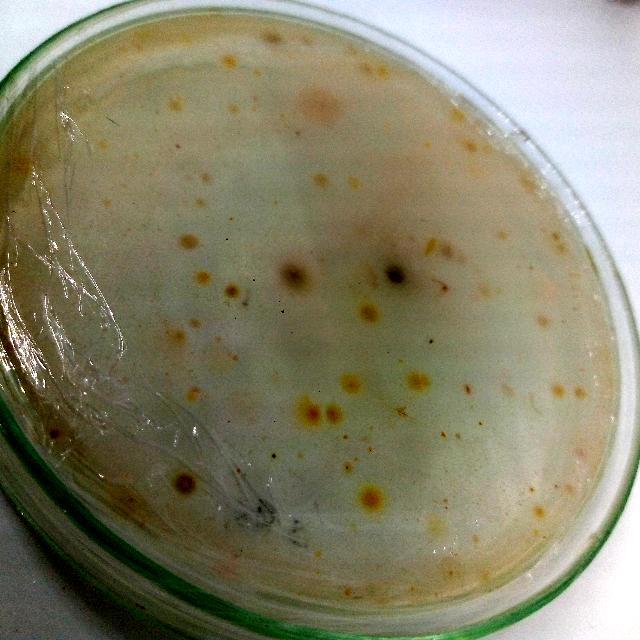colony: (292, 79, 346, 121), (429, 556, 476, 600), (275, 256, 313, 296), (508, 162, 548, 198), (170, 468, 202, 502), (421, 512, 453, 540), (299, 399, 327, 429), (381, 260, 411, 288), (358, 300, 386, 328), (320, 398, 346, 428), (407, 368, 433, 394), (359, 486, 383, 514), (174, 228, 202, 252), (444, 103, 471, 127), (544, 380, 572, 402), (356, 57, 380, 81), (436, 240, 458, 266), (261, 26, 287, 48), (340, 372, 364, 394), (194, 167, 218, 189), (194, 266, 216, 288), (570, 441, 592, 462), (342, 174, 363, 196), (183, 382, 205, 402), (222, 280, 244, 300), (558, 480, 580, 500), (532, 314, 554, 334), (308, 169, 330, 189), (220, 51, 240, 73), (477, 564, 499, 584), (166, 96, 188, 115), (44, 425, 64, 445), (222, 98, 242, 118), (373, 60, 393, 80), (393, 403, 415, 421), (570, 381, 592, 399), (552, 240, 574, 258), (188, 192, 210, 210), (461, 138, 482, 156), (123, 490, 143, 508), (187, 313, 205, 333), (529, 502, 549, 520), (424, 234, 441, 253), (168, 326, 188, 342), (460, 379, 476, 396), (436, 280, 452, 296), (546, 228, 562, 244), (340, 586, 358, 600), (472, 416, 488, 430), (424, 334, 440, 346), (452, 432, 468, 444), (468, 532, 484, 544), (278, 305, 290, 319), (525, 484, 537, 498), (364, 444, 376, 456), (340, 430, 352, 442), (338, 462, 352, 472), (437, 428, 451, 438), (269, 451, 279, 464), (549, 482, 561, 492), (351, 454, 362, 464)
